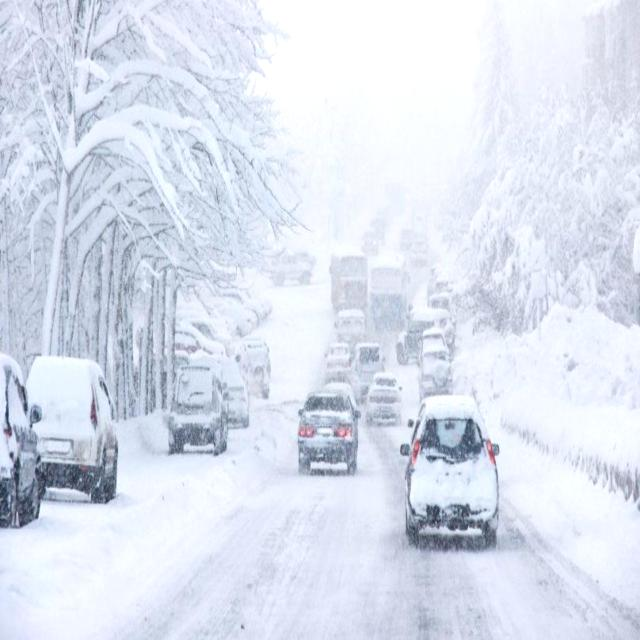Car: (400, 397, 499, 553), (296, 388, 361, 479), (168, 366, 228, 454), (367, 375, 402, 421)
Van: (25, 355, 120, 500)
